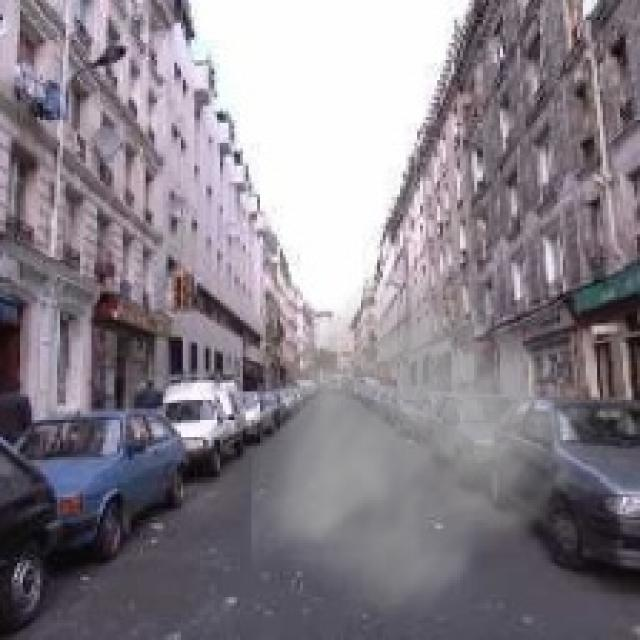smoke: (251, 252, 620, 632)
